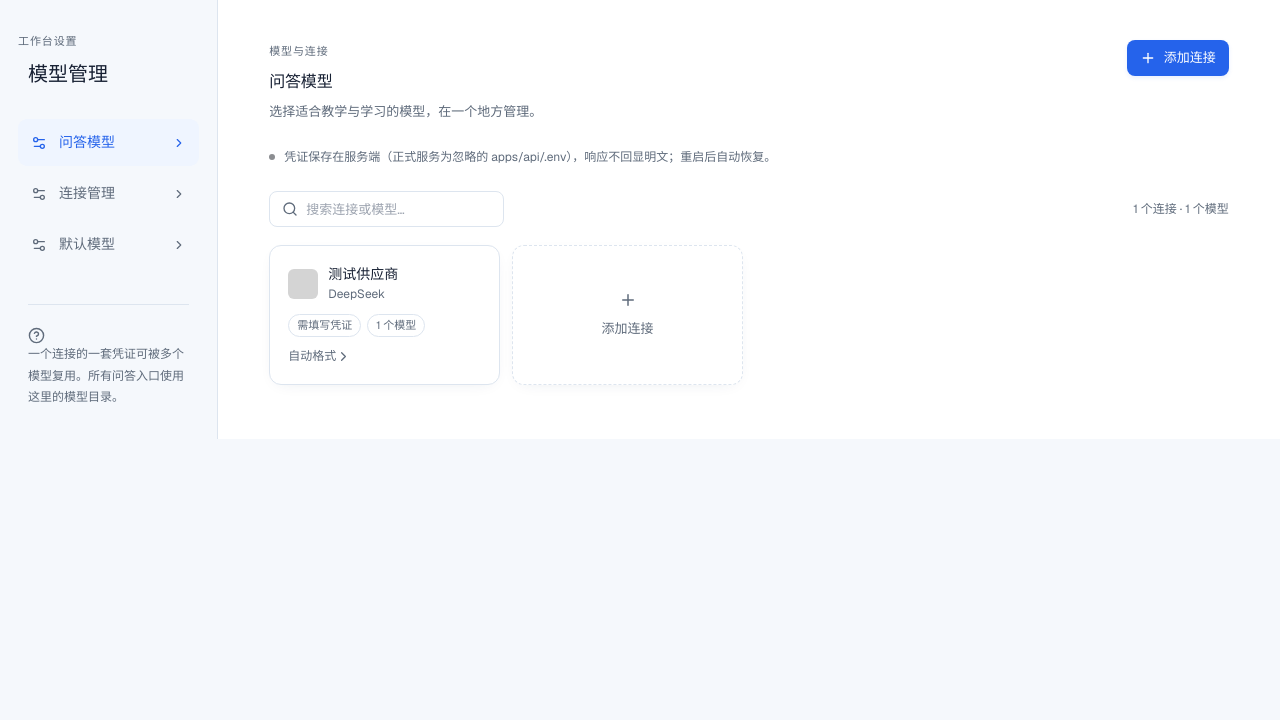
模型管理审查回归 › 云服务缺凭证时测试被禁用并给出原因（MR-02）
The width and height of the screenshot is (1280, 720).
Click the button with aria-label "打开 测试供应商 的详情": x=385, y=315 [269, 245, 500, 385]
(page scrolled)
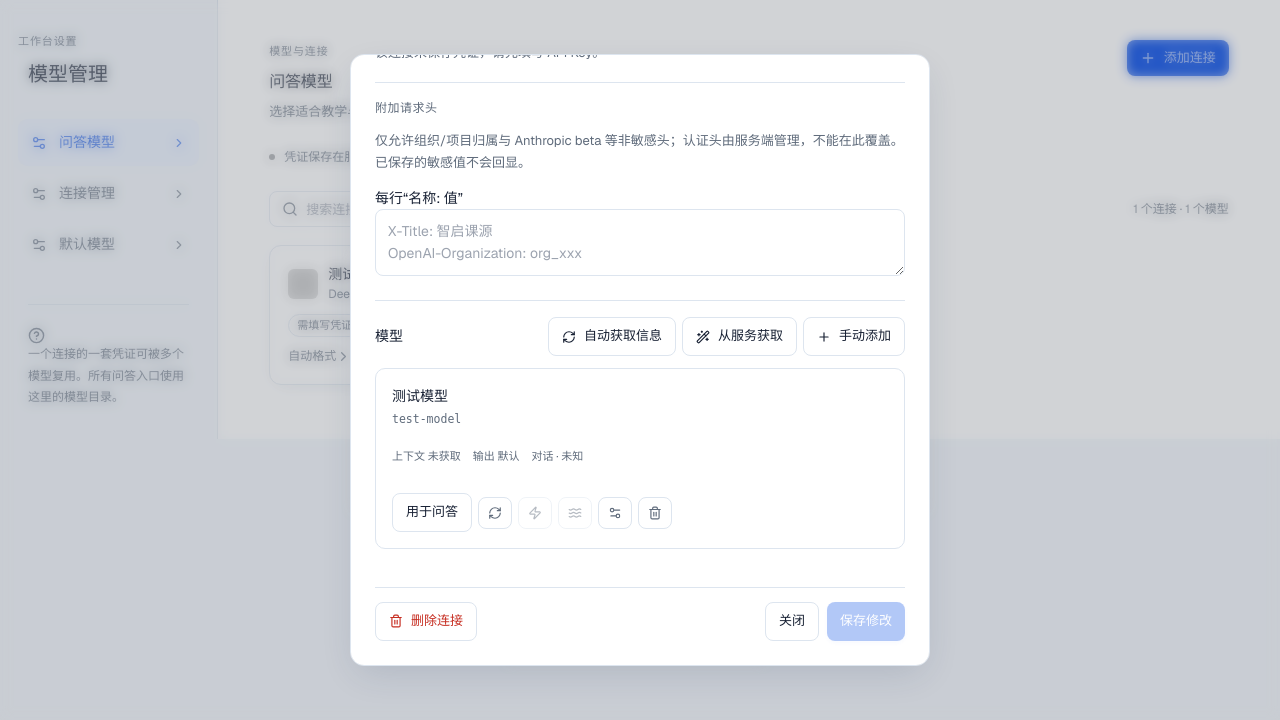
Expected: the button named "连接测试 测试模型" is disabled, [518, 497, 552, 529]
